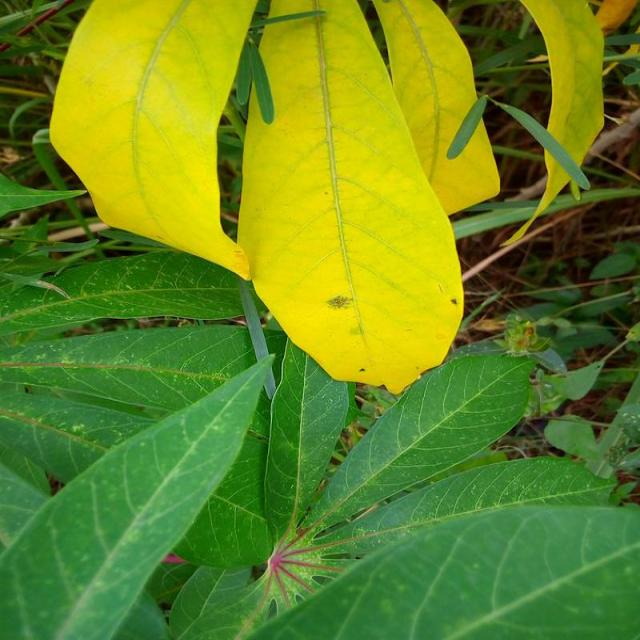cassava leaf: (48, 0, 500, 394), (0, 349, 275, 638), (240, 499, 638, 638)
